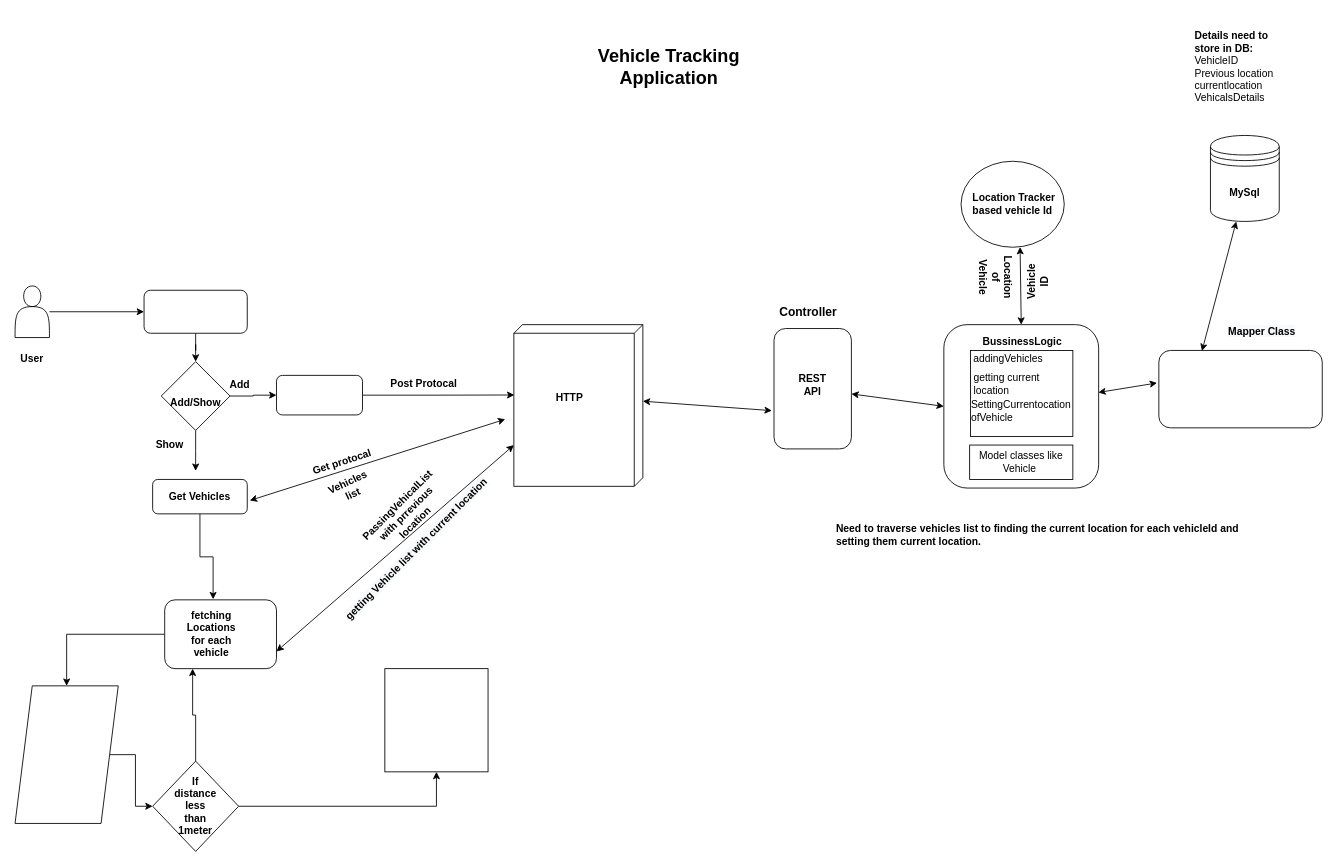
Image size: 1337x866. Some labels were removed from this diagram. Each missing label, with the centre of its shape:
"Add/show Vehicle list with last location" goes at point 195,311.
"Adding New Vehicle" goes at point 319,395.
"Finding Distance by using previous location and current location" goes at point 66,754.
"Here Mapping with Database for all CRUD operations" goes at point 1240,389.
"Showing Active Vehicles" goes at point 436,720.
